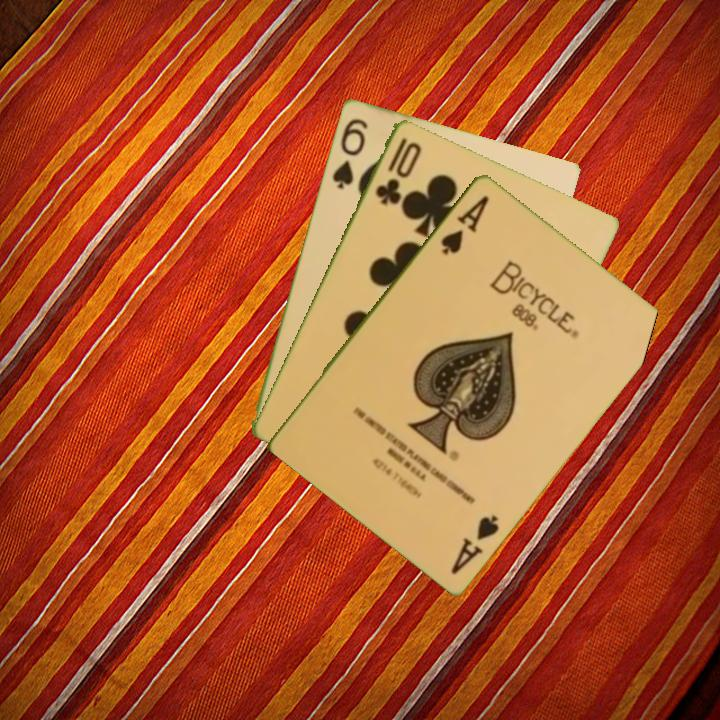10c: (371, 133, 424, 208)
6s: (328, 114, 371, 191)
As: (447, 510, 502, 577), (437, 191, 492, 257)
